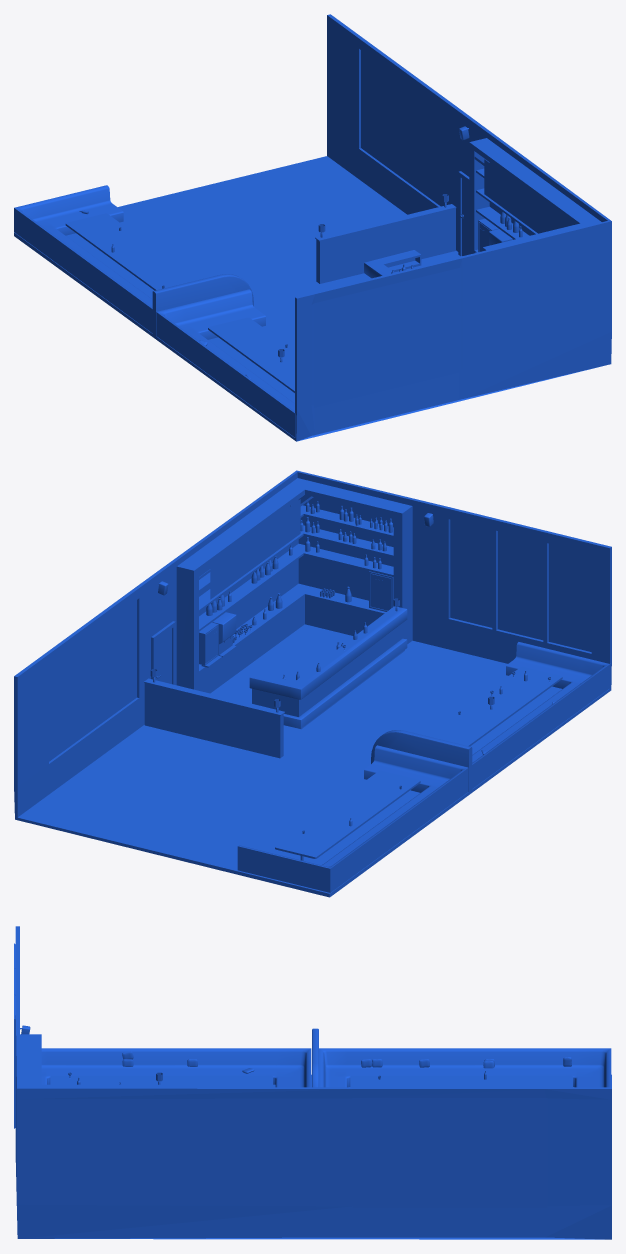
The picture shows the model from 3 angles, top to bottom: view 1: azimuth 30°, elevation 25°; view 2: azimuth 150°, elevation 25°; view 3: azimuth 270°, elevation 25°; orthographic projection. The views are drawn at different scales.
Visible parts, largest first — view 1: base_bar.001; view 2: base_bar.001; view 3: base_bar.001.
Part boxes in pixels (<box>): base_bar.001: <box>14,14,611,441</box>; base_bar.001: <box>14,470,611,897</box>; base_bar.001: <box>14,926,611,1239</box>.
Bounding box in the file's own units: 18.44 × 8.01 × 28.51.
